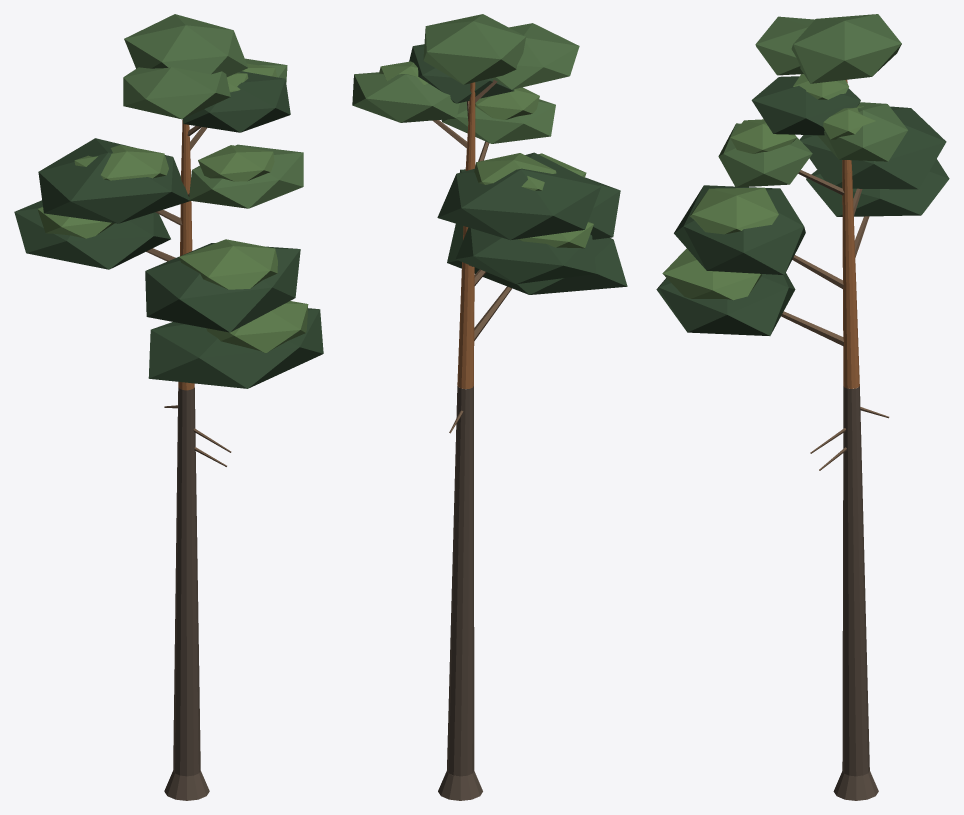
Rendered from pine_c.glb.
3 renders of one model, left to right at view 1: azimuth 30°, elevation 25°; view 2: azimuth 150°, elevation 25°; view 3: azimuth 270°, elevation 25°, orthographic.
Visible parts, largest first — view 1: pine_c; view 2: pine_c; view 3: pine_c.
Part boxes in pixels (x1,y1,x2,y2): pine_c: (14,14,323,800); pine_c: (352,14,627,800); pine_c: (656,14,949,800).
Size of the model in its own units: 6.97 by 20.35 by 7.05.
